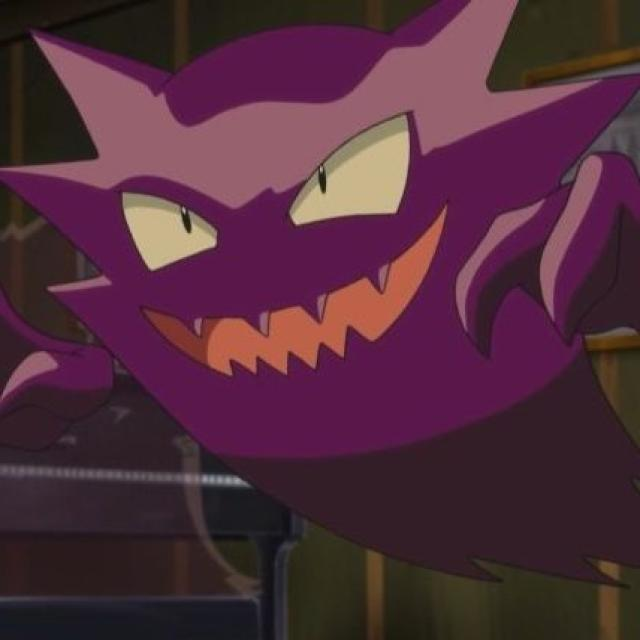Haunter: (21, 3, 640, 430)
